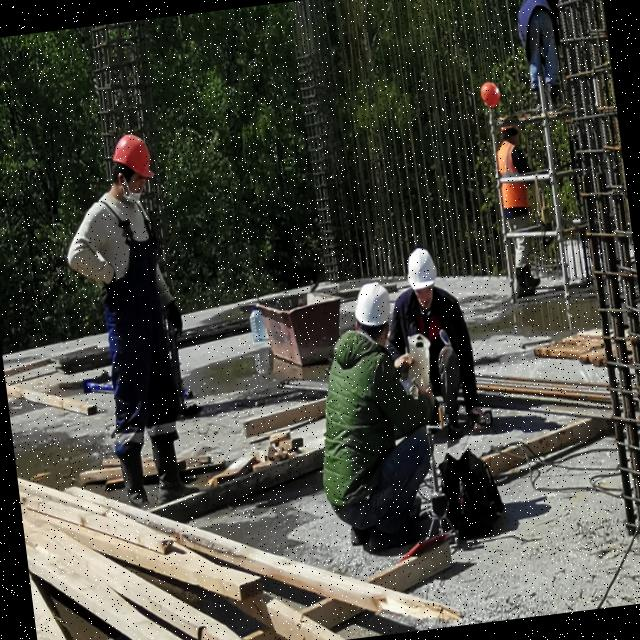Helmet: (107, 134, 155, 190), (350, 279, 396, 335), (405, 246, 443, 300), (480, 82, 502, 110)
Jacket: (495, 137, 531, 212)
NoJacket: (94, 182, 173, 374), (322, 331, 407, 501), (396, 288, 465, 390)
